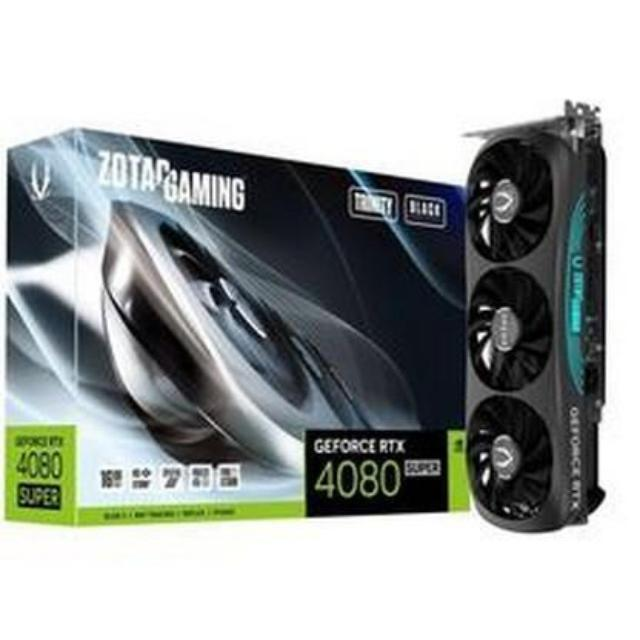GPU: (462, 120, 620, 537)
